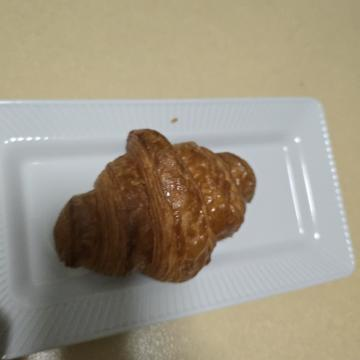croissant: (120, 96, 298, 319)
